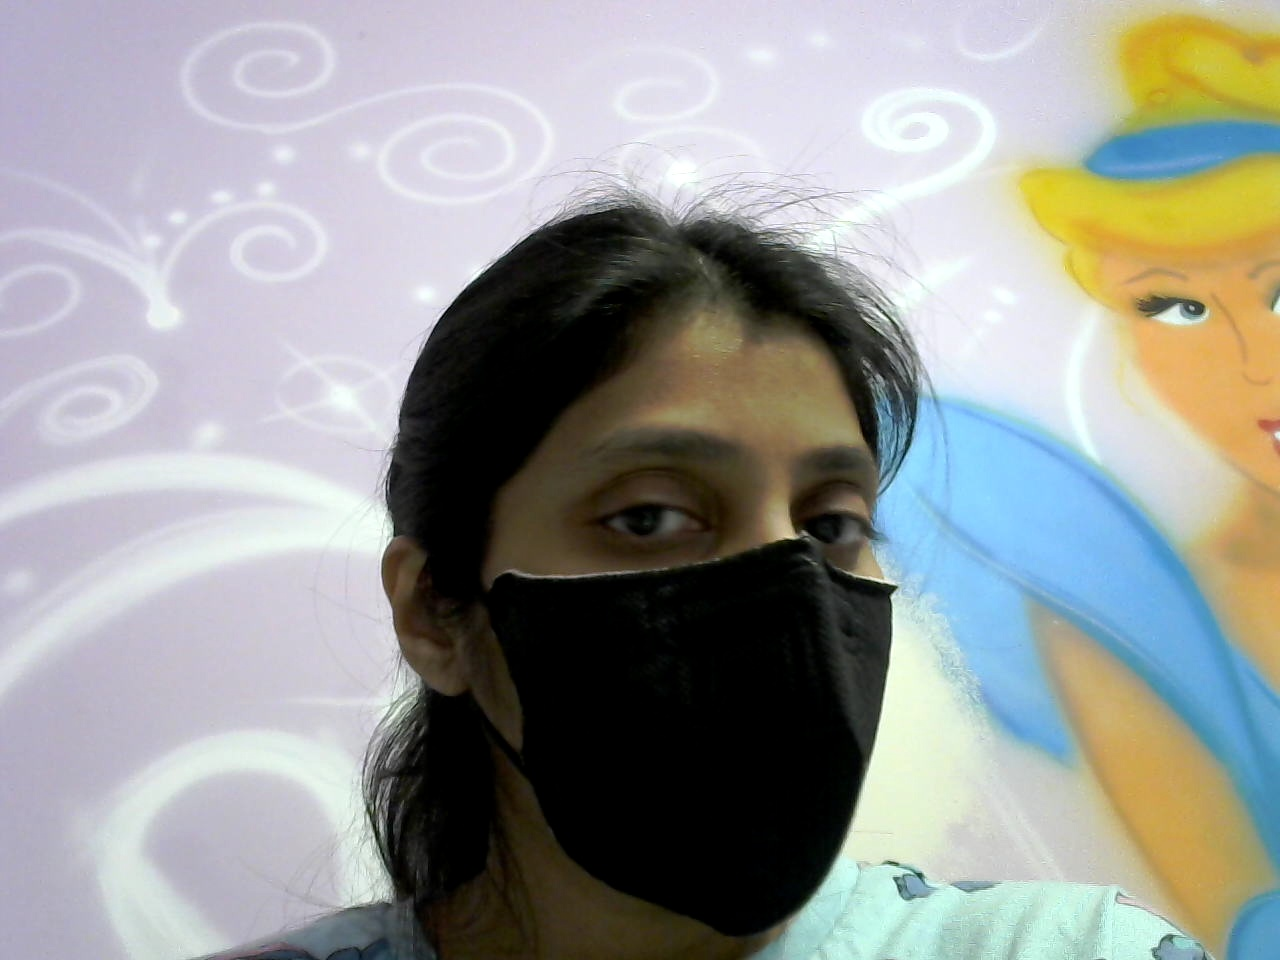mask: (475, 543, 917, 923)
